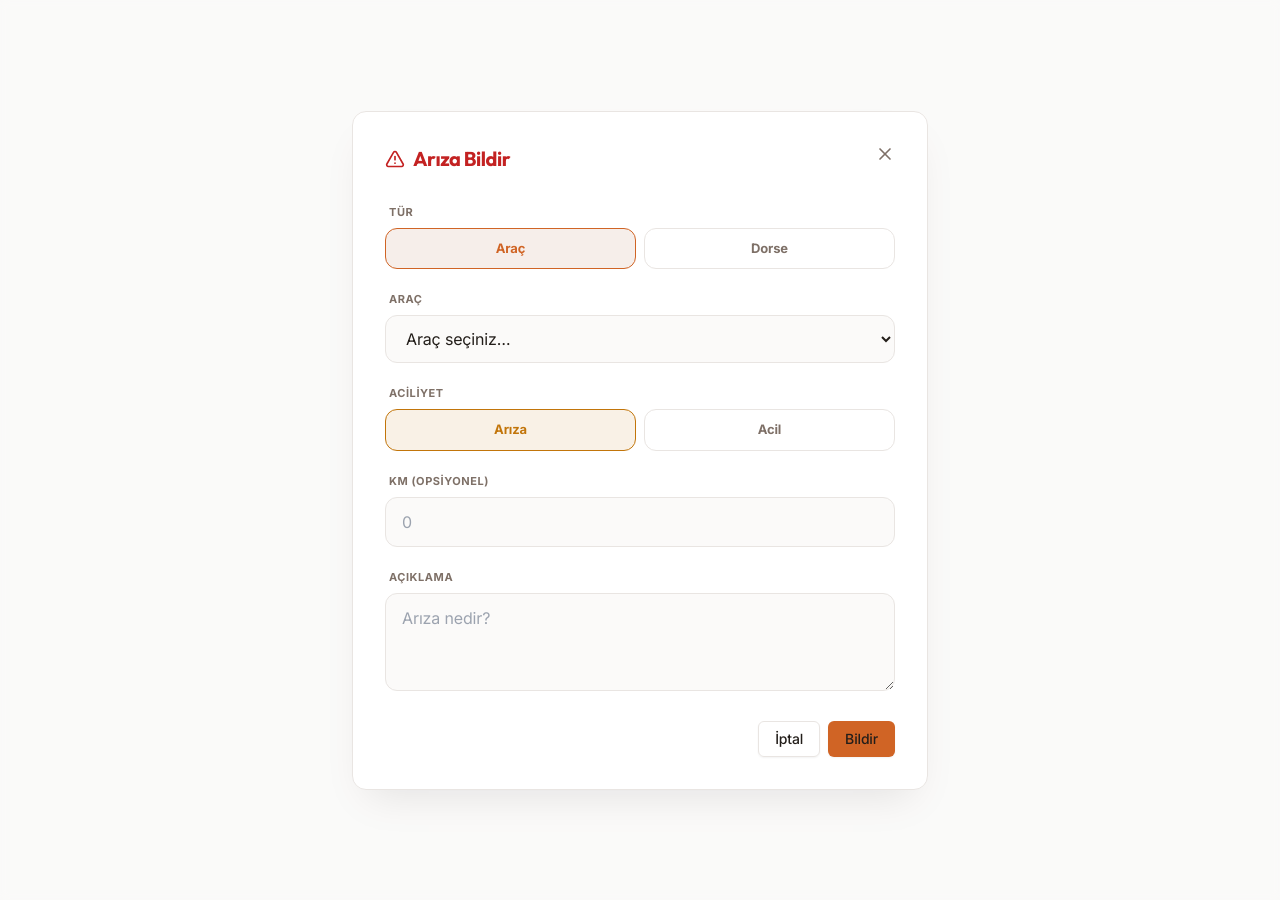
Test: BreakdownReportModal › requires a target before submitting
Step 1. Click the button "Bildir" → (862, 738), box [828,720,895,756]
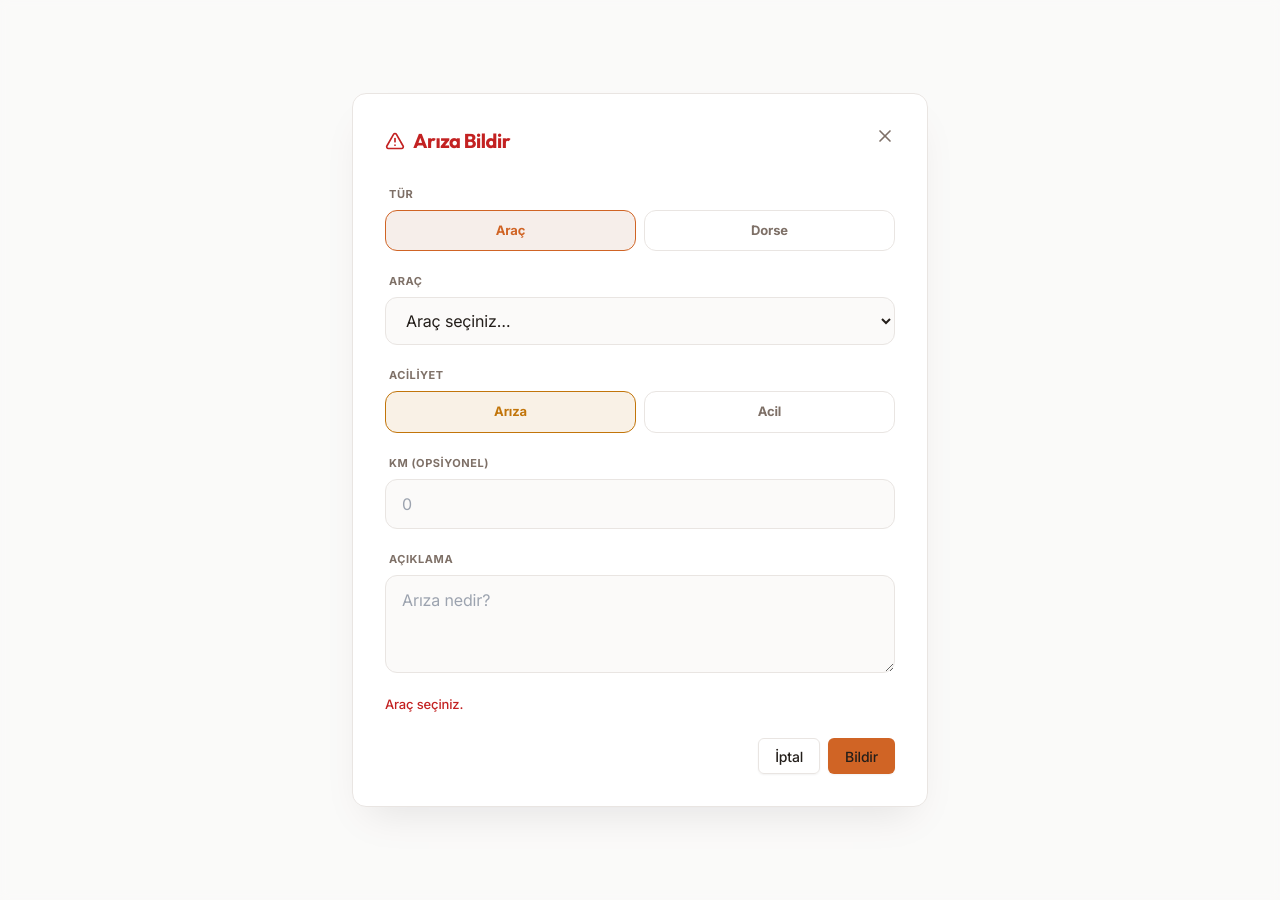
Now the text "Araç seçiniz." is shown, box [385,696,463,712]
